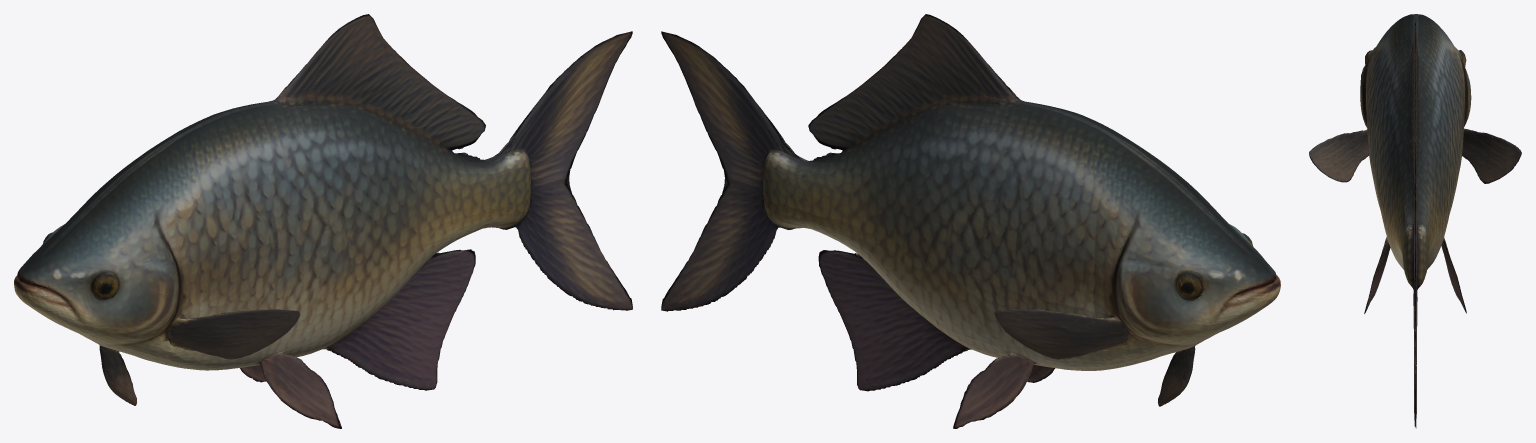
3 renders of one model, left to right at view 1: azimuth 30°, elevation 25°; view 2: azimuth 150°, elevation 25°; view 3: azimuth 270°, elevation 25°, orthographic. The views are drawn at different scales.
Parts seen in each view (by area): view 1: world; view 2: world; view 3: world.
Boxes of the visible parts, x1,y1,x2,y2 form: world: (14,14,632,428); world: (661,14,1280,428); world: (1309,14,1521,428).
Bounding box in the file's own units: 1 × 0.6096 × 0.3665.
1 material, 1 textured.
